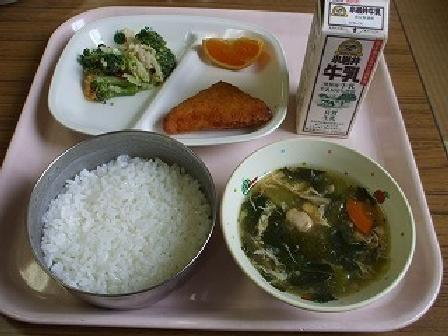Citrus: (197, 28, 271, 73)
Milk: (289, 0, 400, 137)
Rice: (20, 139, 211, 301)
Salad: (62, 24, 180, 98)
Soups: (229, 150, 414, 300)
cutlet: (164, 74, 276, 141)
